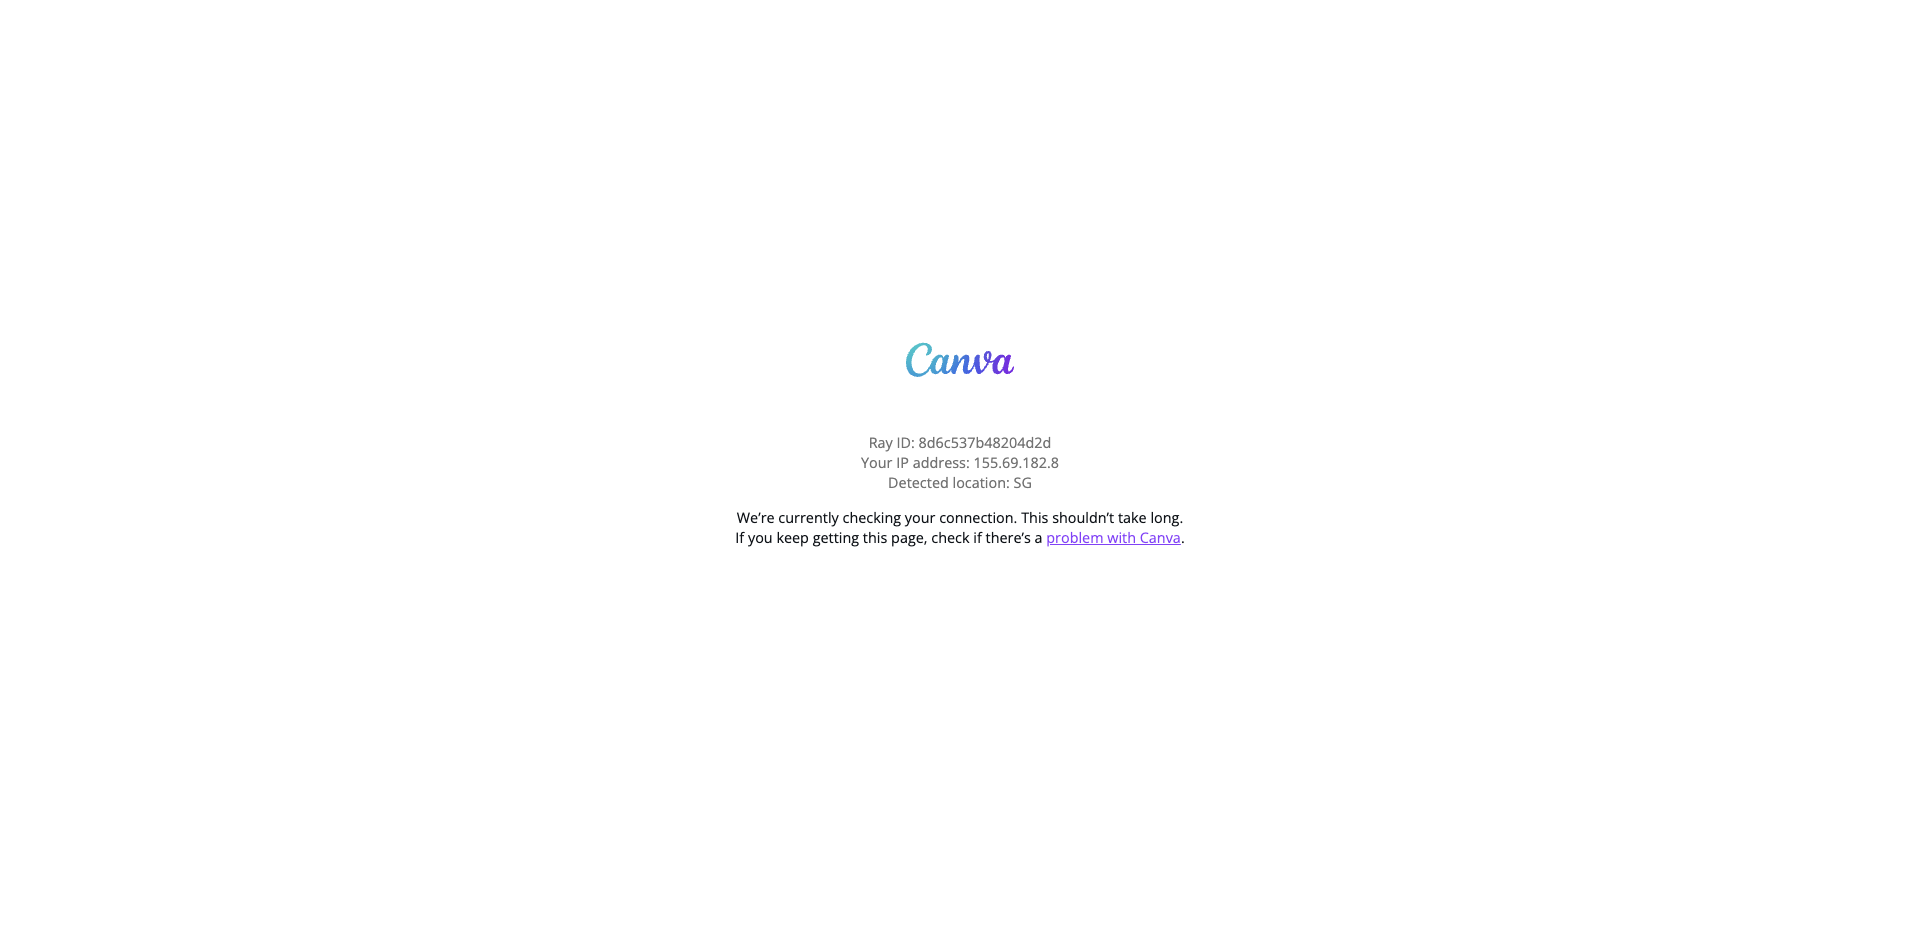link: (1046, 528, 1180, 546)
